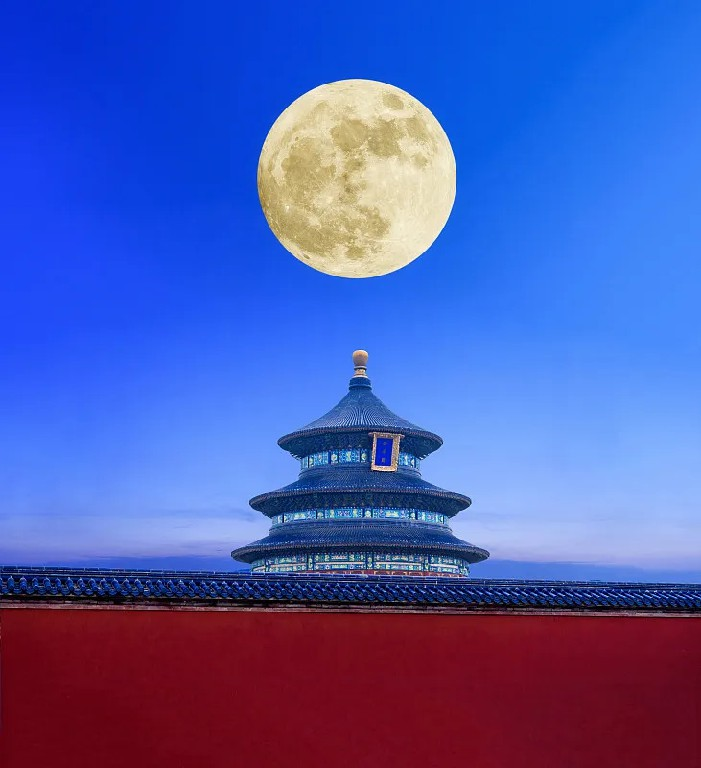Heaven: (230, 347, 491, 577)
